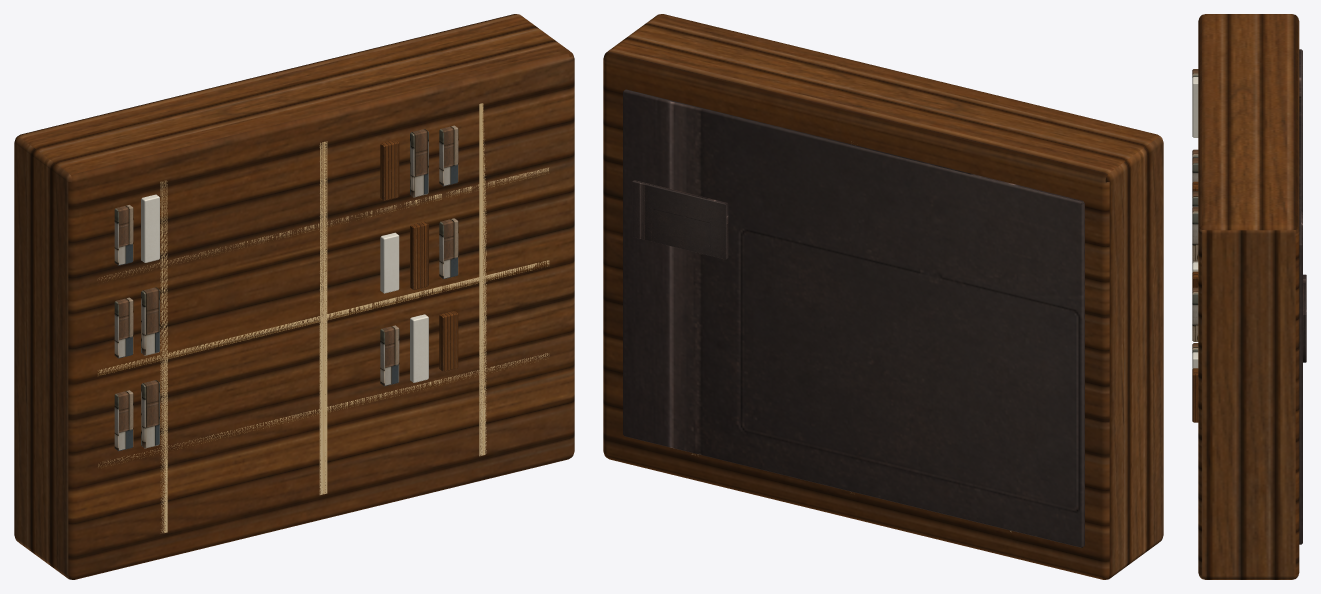
Rendered from hp_furniture_residential_room_divider_shelf_v1.glb.
3 views of the same model, side by side, from view 1: azimuth 30°, elevation 25°; view 2: azimuth 150°, elevation 25°; view 3: azimuth 270°, elevation 25° (orthographic). The views are drawn at different scales.
Parts seen in each view (by area): view 1: long_open_divider_outer_frame, vertical_shelf_divider.001, horizontal_shelf_board.001, vertical_shelf_divider.002, vertical_shelf_divider, horizontal_shelf_board, horizontal_shelf_board.002, restrained_book_block_0_1, restrained_book_block_0_3, restrained_book_block_1_1, restrained_book_block_1_3, restrained_book_block_2_1 (+10 smaller); view 2: deep_recessed_back_shadow, long_open_divider_outer_frame, too_precise_rear_maintenance_inset; view 3: long_open_divider_outer_frame, deep_recessed_back_shadow, restrained_book_block_2_1, restrained_book_block_0_4, restrained_book_block_1_4, restrained_book_block_2_4, too_precise_rear_maintenance_inset, restrained_book_block_1_1.
Part boxes in pixels (x1,y1,x2,y2): long_open_divider_outer_frame: [14, 14, 574, 579]; vertical_shelf_divider.001: [319, 141, 327, 494]; horizontal_shelf_board.001: [98, 260, 549, 375]; vertical_shelf_divider.002: [479, 103, 486, 456]; vertical_shelf_divider: [160, 180, 167, 532]; horizontal_shelf_board: [98, 353, 549, 467]; horizontal_shelf_board.002: [99, 167, 548, 280]; restrained_book_block_0_1: [141, 380, 159, 448]; restrained_book_block_0_3: [410, 314, 428, 382]; restrained_book_block_1_1: [141, 287, 159, 355]; restrained_book_block_1_3: [410, 221, 428, 290]; restrained_book_block_2_1: [141, 194, 159, 262]; deep_recessed_back_shadow: [623, 89, 1084, 547]; long_open_divider_outer_frame: [603, 14, 1163, 579]; too_precise_rear_maintenance_inset: [632, 180, 728, 259]; long_open_divider_outer_frame: [1198, 14, 1299, 579]; deep_recessed_back_shadow: [1299, 49, 1302, 544]; restrained_book_block_2_1: [1192, 77, 1198, 137]; restrained_book_block_0_4: [1192, 368, 1198, 422]; restrained_book_block_1_4: [1192, 287, 1198, 341]; restrained_book_block_2_4: [1192, 207, 1198, 261]; too_precise_rear_maintenance_inset: [1303, 274, 1306, 362]; restrained_book_block_1_1: [1192, 157, 1198, 182].
Bounding box in the file's own units: 1.72 × 1.32 × 0.3845.
9 materials, 9 textured.
